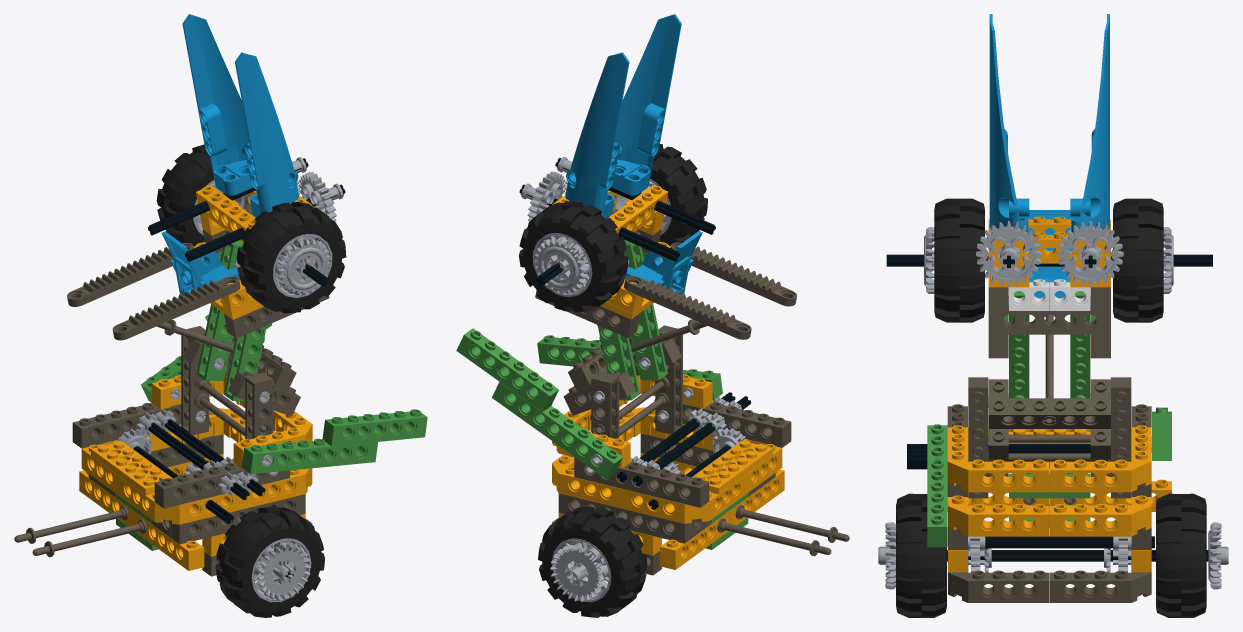
Rendered from robot.dae.
3 renders of one model, left to right at view 1: azimuth 30°, elevation 25°; view 2: azimuth 150°, elevation 25°; view 3: azimuth 270°, elevation 25°, orthographic. The views are drawn at different scales.
Parts seen in each view (by area): view 1: Inner-Node-robot_dot_io-19, Inner-Node-robot_dot_io-95, Inner-Node-robot_dot_io-84, Inner-Node-robot_dot_io-85, Inner-Node-robot_dot_io-20, Inner-Node-robot_dot_io-71, Inner-Node-robot_dot_io-72, Inner-Node-robot_dot_io-101, Inner-Node-robot_dot_io-33, Inner-Node-robot_dot_io-1, Inner-Node-robot_dot_io-32, Inner-Node-robot_dot_io-104 (+34 smaller); view 2: Inner-Node-robot_dot_io-94, Inner-Node-robot_dot_io-20, Inner-Node-robot_dot_io-85, Inner-Node-robot_dot_io-84, Inner-Node-robot_dot_io-95, Inner-Node-robot_dot_io-78, Inner-Node-robot_dot_io-73, Inner-Node-robot_dot_io-32, Inner-Node-robot_dot_io-104, Inner-Node-robot_dot_io-47, Inner-Node-robot_dot_io-33, Inner-Node-robot_dot_io-101 (+32 smaller); view 3: Inner-Node-robot_dot_io-94, Inner-Node-robot_dot_io-95, Inner-Node-robot_dot_io-20, Inner-Node-robot_dot_io-19, Inner-Node-robot_dot_io-3, Inner-Node-robot_dot_io-0, Inner-Node-robot_dot_io-85, Inner-Node-robot_dot_io-28, Inner-Node-robot_dot_io-84, Inner-Node-robot_dot_io-48, Inner-Node-robot_dot_io-2, Inner-Node-robot_dot_io-65 (+42 smaller).
Part boxes in pixels (box(x1,y1,x2,y2)): Inner-Node-robot_dot_io-19: box(215, 506, 324, 617); Inner-Node-robot_dot_io-95: box(236, 202, 346, 313); Inner-Node-robot_dot_io-84: box(182, 14, 253, 195); Inner-Node-robot_dot_io-85: box(235, 52, 298, 216); Inner-Node-robot_dot_io-20: box(156, 144, 249, 246); Inner-Node-robot_dot_io-71: box(241, 438, 377, 474); Inner-Node-robot_dot_io-72: box(322, 409, 427, 446); Inner-Node-robot_dot_io-101: box(112, 276, 240, 340); Inner-Node-robot_dot_io-33: box(154, 463, 289, 508); Inner-Node-robot_dot_io-1: box(118, 476, 242, 524); Inner-Node-robot_dot_io-32: box(72, 403, 181, 448); Inner-Node-robot_dot_io-104: box(67, 242, 193, 306); Inner-Node-robot_dot_io-94: box(538, 506, 647, 617); Inner-Node-robot_dot_io-20: box(519, 201, 628, 312); Inner-Node-robot_dot_io-85: box(611, 14, 681, 195); Inner-Node-robot_dot_io-84: box(565, 52, 629, 218); Inner-Node-robot_dot_io-95: box(615, 144, 707, 245); Inner-Node-robot_dot_io-78: box(492, 382, 623, 479); Inner-Node-robot_dot_io-73: box(456, 328, 558, 411); Inner-Node-robot_dot_io-32: box(574, 457, 709, 507); Inner-Node-robot_dot_io-104: box(624, 275, 751, 339); Inner-Node-robot_dot_io-47: box(621, 475, 745, 523); Inner-Node-robot_dot_io-33: box(683, 402, 791, 447); Inner-Node-robot_dot_io-101: box(670, 242, 796, 306); Inner-Node-robot_dot_io-94: box(1156, 493, 1206, 617); Inner-Node-robot_dot_io-95: box(934, 198, 984, 322); Inner-Node-robot_dot_io-20: box(1113, 198, 1163, 322); Inner-Node-robot_dot_io-19: box(896, 493, 946, 617); Inner-Node-robot_dot_io-3: box(947, 425, 1049, 492); Inner-Node-robot_dot_io-0: box(1050, 425, 1151, 492); Inner-Node-robot_dot_io-85: box(989, 14, 1029, 232); Inner-Node-robot_dot_io-28: box(988, 398, 1110, 428); Inner-Node-robot_dot_io-84: box(1070, 14, 1109, 232); Inner-Node-robot_dot_io-48: box(948, 492, 1049, 536); Inner-Node-robot_dot_io-2: box(1050, 492, 1151, 536); Inner-Node-robot_dot_io-65: box(948, 550, 1049, 602).
Size of the model in its own units: 442 by 649 by 343.
